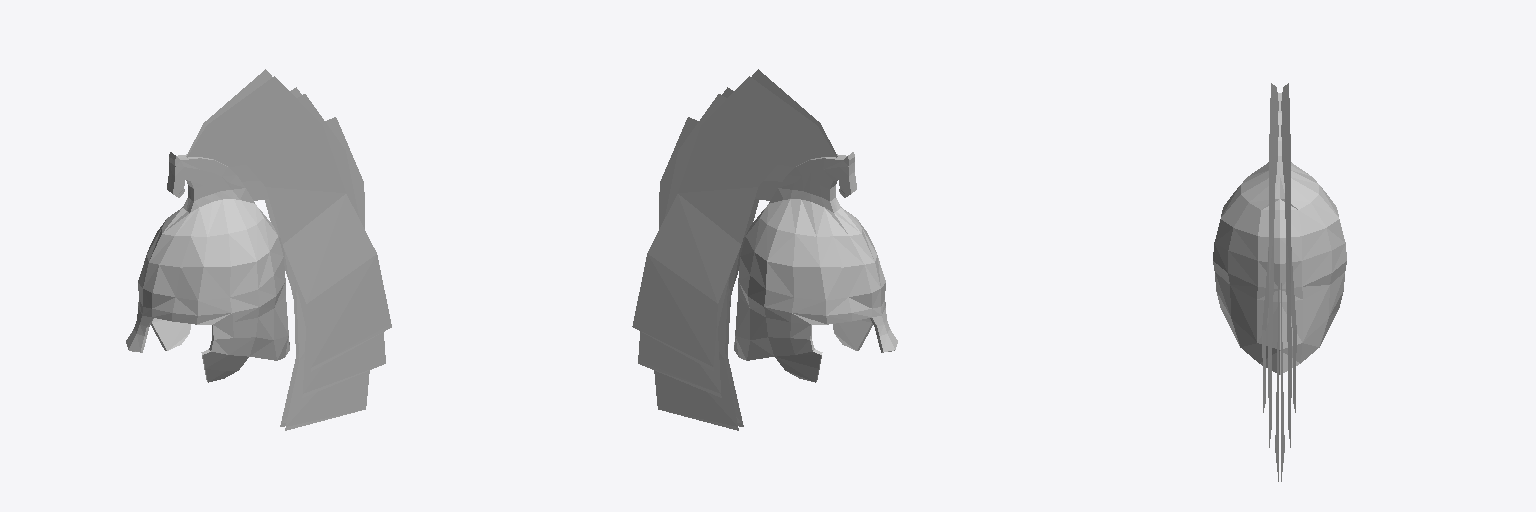
Rendered from Rohan_Helmet_01.obj.
3 views of the same model, side by side, from view 1: azimuth 30°, elevation 25°; view 2: azimuth 150°, elevation 25°; view 3: azimuth 270°, elevation 25° (orthographic).
Parts seen in each view (by area): view 1: Rohan_Helmet_01; view 2: Rohan_Helmet_01; view 3: Rohan_Helmet_01.
Boxes of the visible parts, box(x1,y1,x2,y2) form: Rohan_Helmet_01: box(126, 69, 391, 430); Rohan_Helmet_01: box(632, 69, 897, 430); Rohan_Helmet_01: box(1213, 83, 1346, 481).
Size of the model in its own units: 4.16 by 5.6 by 1.9.